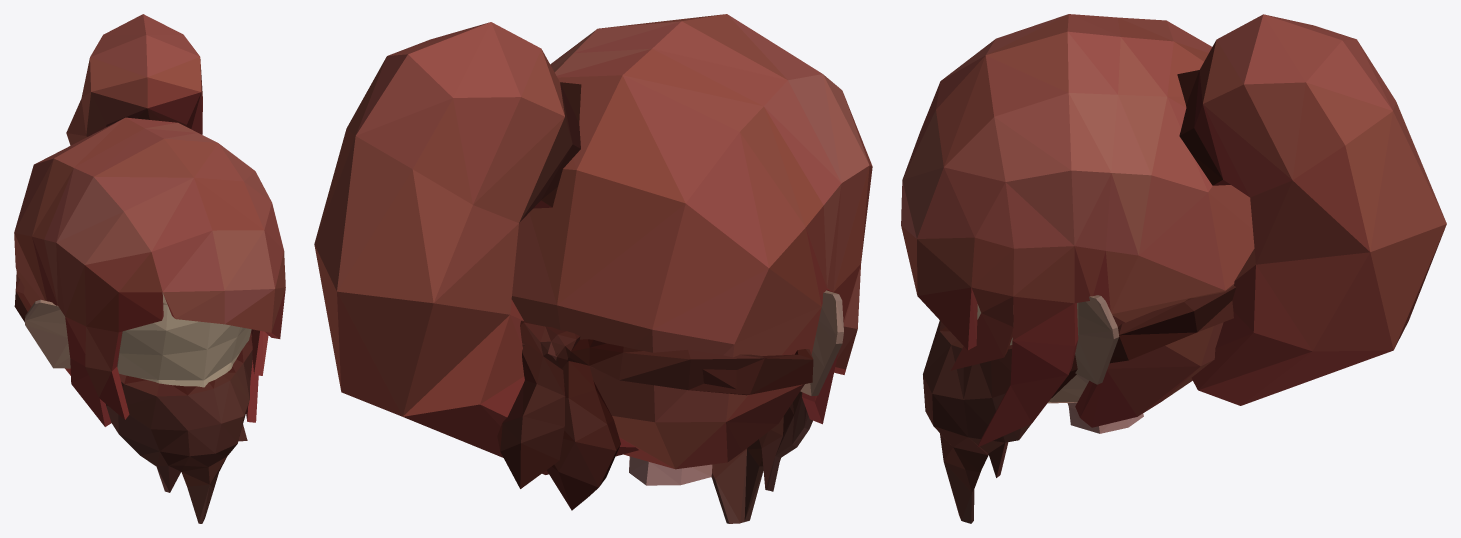
File: helm_lightskin_ponytail_red_bandana.fbx
The picture shows the model from 3 angles, left to right: view 1: azimuth 30°, elevation 25°; view 2: azimuth 150°, elevation 25°; view 3: azimuth 270°, elevation 25°; orthographic projection. The views are drawn at different scales.
Parts seen in each view (by area): view 1: helm_lightskin_ponytail_red_bandana; view 2: helm_lightskin_ponytail_red_bandana; view 3: helm_lightskin_ponytail_red_bandana.
Boxes of the visible parts, box(x1,y1,x2,y2) form: helm_lightskin_ponytail_red_bandana: box(14, 14, 285, 523); helm_lightskin_ponytail_red_bandana: box(314, 14, 872, 523); helm_lightskin_ponytail_red_bandana: box(901, 14, 1446, 523).
Bounding box in the file's own units: 1.21 × 1.8 × 1.64.
